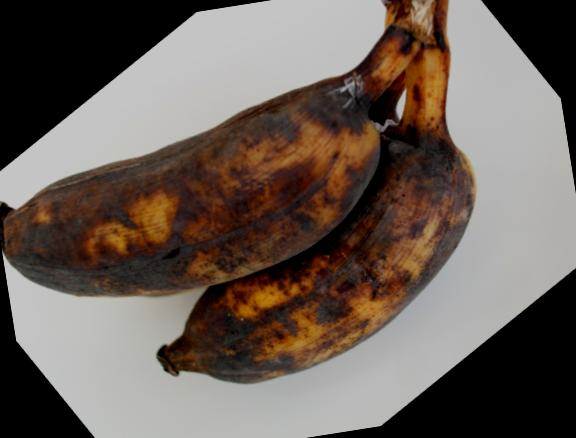Banana Overripe: (0, 0, 541, 438)
